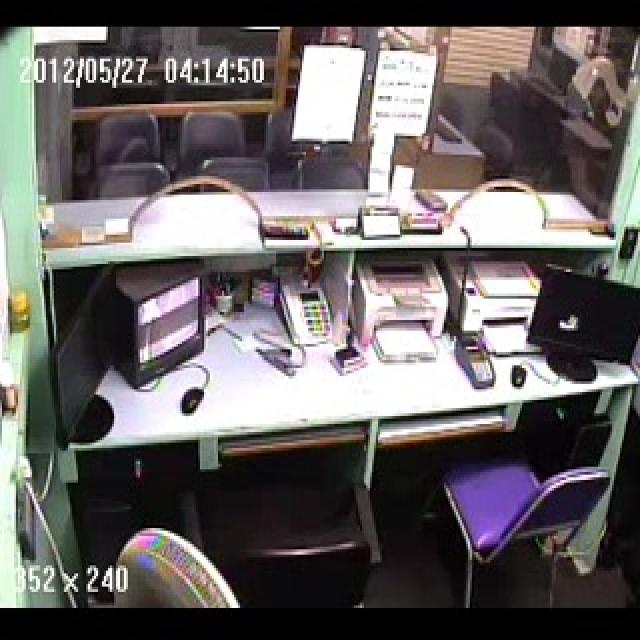thief: (536, 43, 624, 223)
